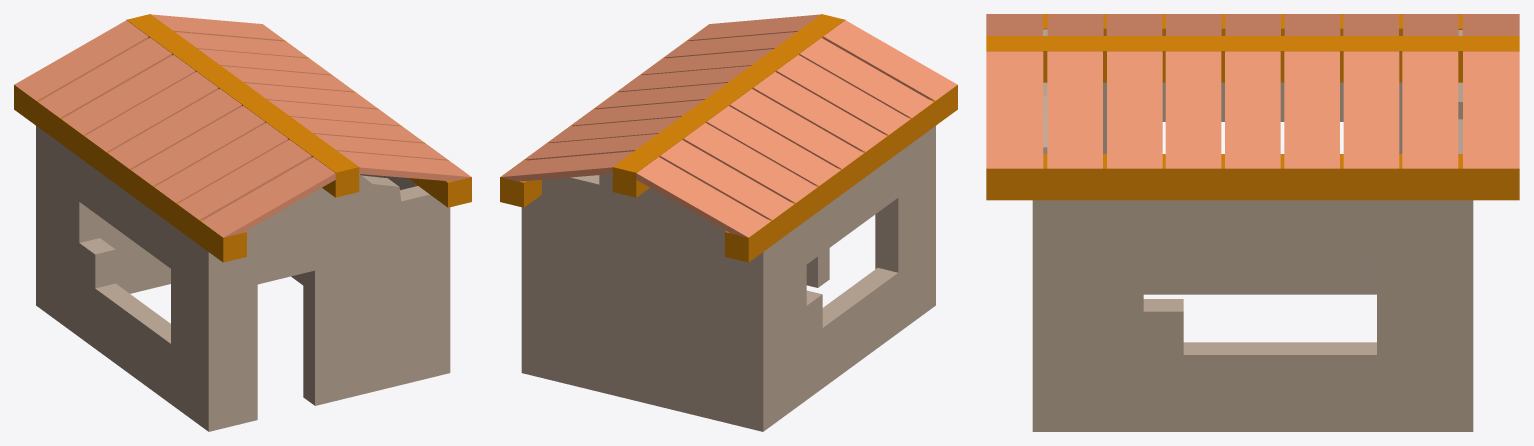
Rendered from Tipo Casa02 (Modelo).fbx.
The picture shows the model from 3 angles, left to right: view 1: azimuth 30°, elevation 25°; view 2: azimuth 150°, elevation 25°; view 3: azimuth 270°, elevation 25°; orthographic projection. The views are drawn at different scales.
Parts seen in each view (by area): view 1: Model_Casa_02; view 2: Model_Casa_02; view 3: Model_Casa_02.
Boxes of the visible parts, x1=… form: Model_Casa_02: x1=14, y1=14, x2=471, y2=431; Model_Casa_02: x1=500, y1=14, x2=957, y2=431; Model_Casa_02: x1=986, y1=14, x2=1519, y2=431.
Bounding box in the file's own units: 1.44 × 1.36 × 2.1.
